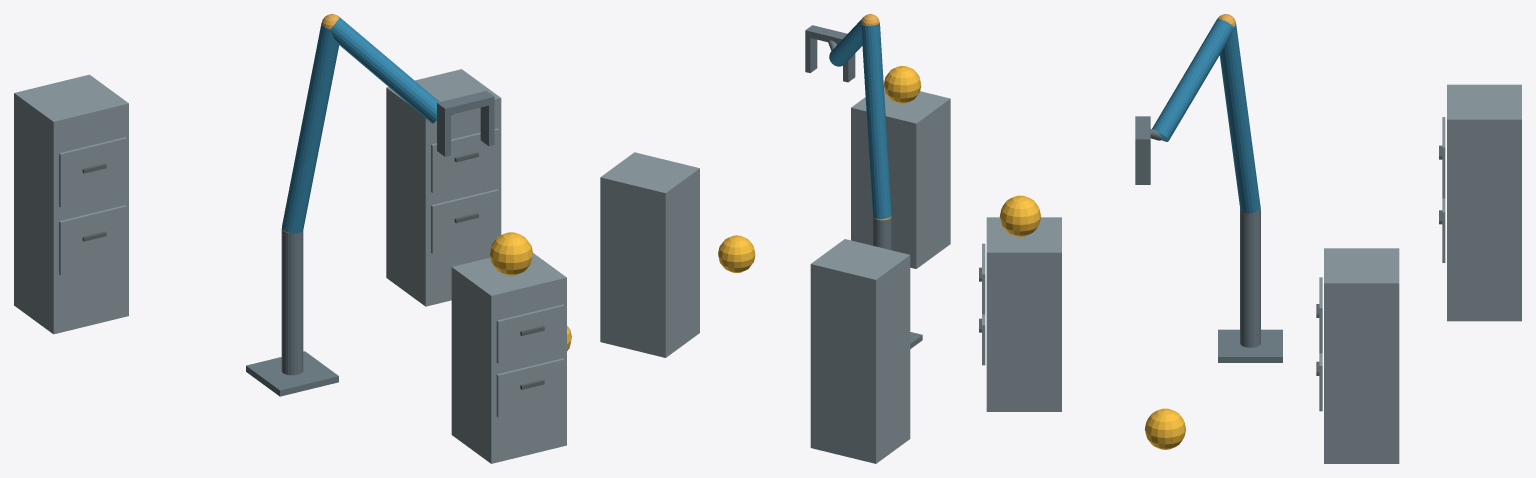
The picture shows the model from 3 angles, left to right: view 1: azimuth 30°, elevation 25°; view 2: azimuth 150°, elevation 25°; view 3: azimuth 270°, elevation 25°; orthographic projection. The views are drawn at different scales.
Visible parts, largest first — view 1: cabinet_3 body, cabinet_1 body, cabinet_2 body, moving link 1, cabinet_3 drawer front, cabinet_3 drawer front.001, cabinet_2 drawer front, fixed post, moving link 2, cabinet_2 drawer front.001, cabinet_1 drawer front.001, cabinet_1 drawer front (+5 smaller); view 2: cabinet_3 body, cabinet_2 body, cabinet_1 body, moving link 1, ball ball_2, released ball_1, moving link 2, fixed post, gripper bridge, gripper finger 1; view 3: cabinet_3 body, cabinet_2 body, cabinet_1 body, moving link 1, fixed post, moving link 2, pedestal, released ball_1, ball ball_2, gripper finger 1.
Part boxes in pixels (x1,y1,x2,y2): cabinet_3 body: (14,74,128,334); cabinet_1 body: (451,253,566,463); cabinet_2 body: (386,69,501,306); moving link 1: (282,22,339,233); cabinet_3 drawer front: (59,205,126,275); cabinet_3 drawer front.001: (59,137,126,207); cabinet_2 drawer front: (431,189,499,253); fixed post: (281,228,303,375); moving link 2: (330,17,439,123); cabinet_2 drawer front.001: (431,128,499,192); cabinet_1 drawer front.001: (496,304,564,363); cabinet_1 drawer front: (496,358,564,417); cabinet_3 body: (810,239,910,463); cabinet_2 body: (600,152,699,357); cabinet_1 body: (851,84,950,268); moving link 1: (861,23,891,218); ball ball_2: (718,235,755,272); released ball_1: (884,66,921,103); moving link 2: (829,17,863,66); fixed post: (873,217,891,250); gripper bridge: (805,25,847,44); gripper finger 1: (805,37,817,73); cabinet_3 body: (1447,84,1521,321); cabinet_2 body: (1324,248,1399,463); cabinet_1 body: (986,217,1061,411); moving link 1: (1219,24,1260,213); fixed post: (1240,209,1260,347); moving link 2: (1152,18,1233,141); pedestal: (1218,329,1282,362); released ball_1: (999,195,1040,236); ball ball_2: (1144,408,1185,449); gripper finger 1: (1135,146,1150,184).
Size of the model in its own units: 1.62 by 1.48 by 2.1.
